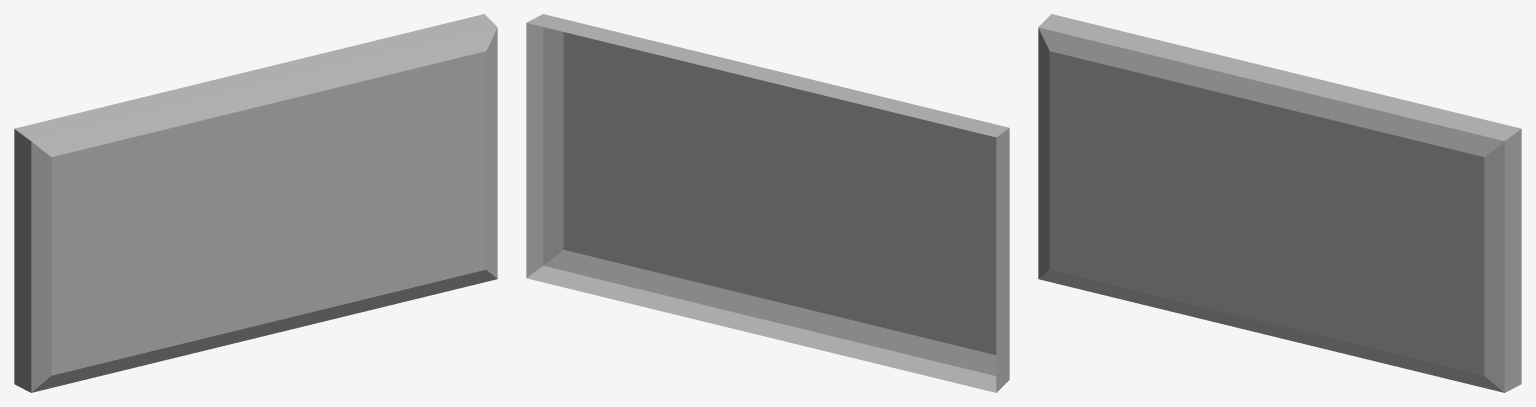
File: KF_SM_Panel2.fbx
The picture shows the model from 3 angles, left to right: view 1: azimuth 30°, elevation 25°; view 2: azimuth 150°, elevation 25°; view 3: azimuth 330°, elevation 25°; orthographic projection.
Parts seen in each view (by area): view 1: KF_SM_Panel2; view 2: KF_SM_Panel2; view 3: KF_SM_Panel2.
Part boxes in pixels (x1,y1,x2,y2): KF_SM_Panel2: (14,14,497,392); KF_SM_Panel2: (526,14,1009,392); KF_SM_Panel2: (1038,14,1521,392).
Size of the model in its own units: 166 by 86.14 by 12.02.
